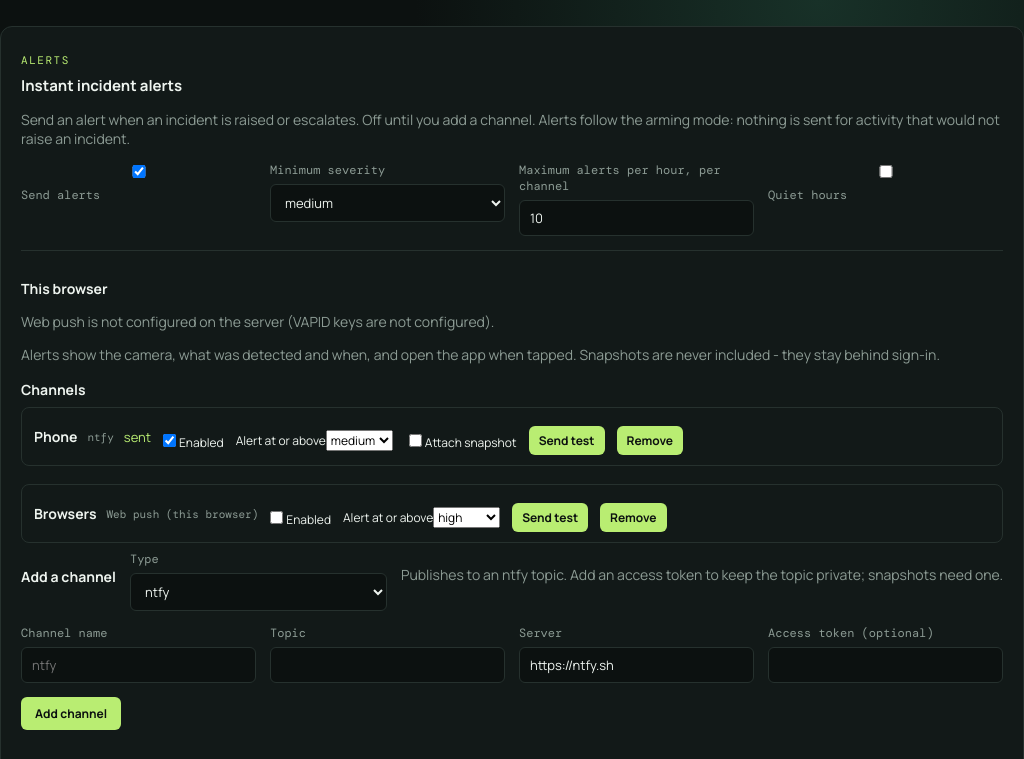
Test: NotificationsPanel › reports a failed test send without exposing channel configuration
Check: the text "Phone" is shown, box left=34, top=427, right=77, bottom=446
Click the button "Send test" next to "Attach snapshot" at {"x": 567, "y": 440}, box left=529, top=426, right=604, bottom=455
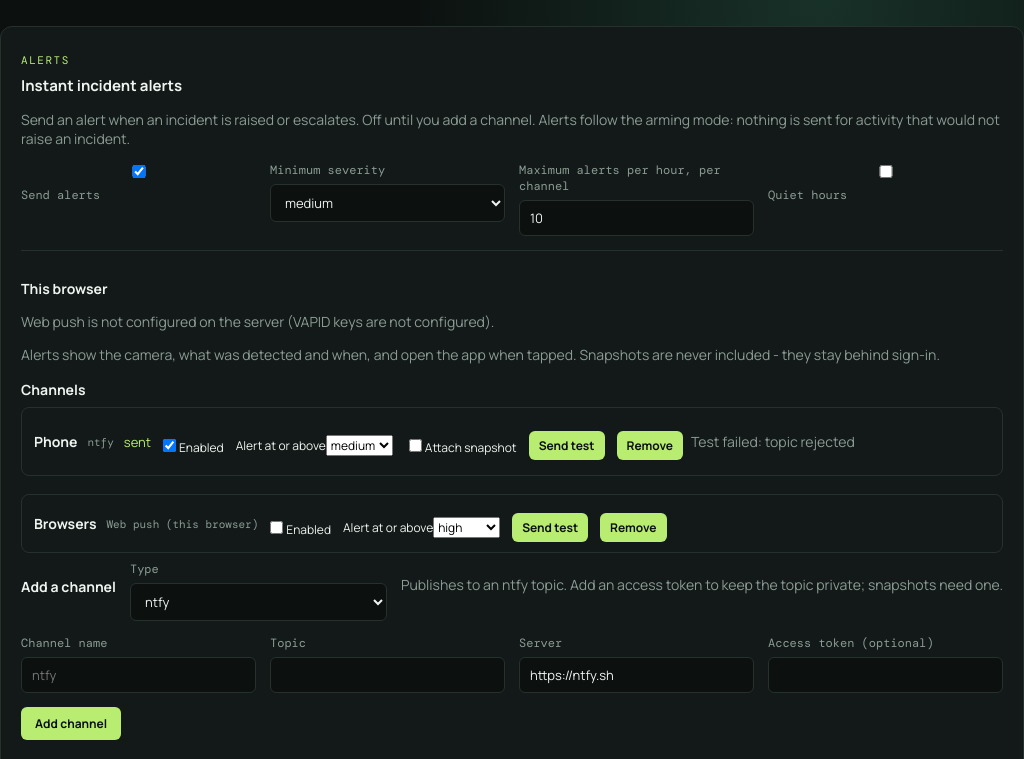
Check: the text "Test failed: topic rejected" is shown, box left=691, top=432, right=855, bottom=451
